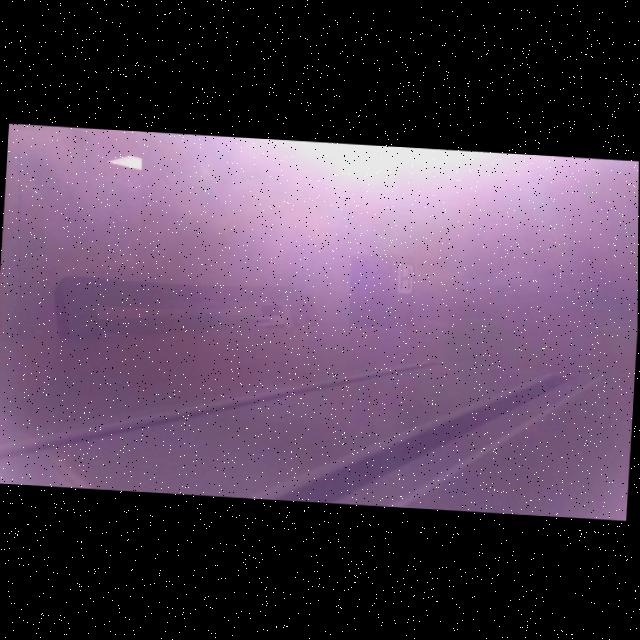H: (401, 266, 411, 290)
